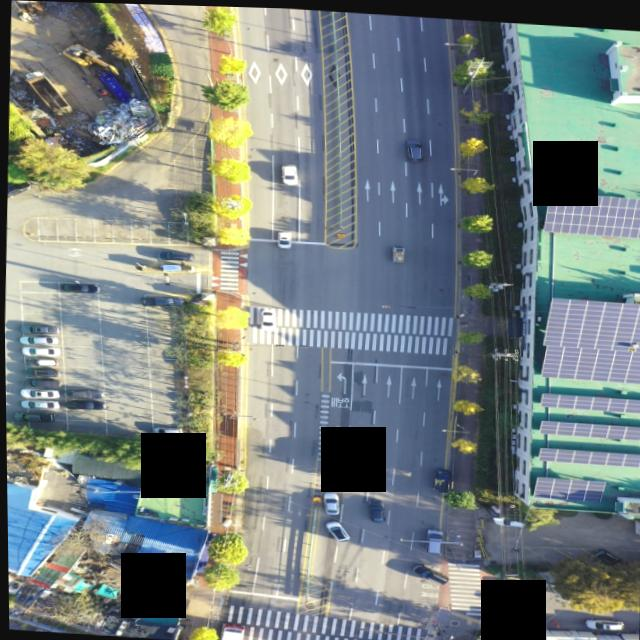car: (409, 561, 445, 582), (320, 518, 347, 540), (421, 525, 441, 552), (18, 397, 60, 409), (366, 494, 385, 520), (141, 293, 181, 305), (153, 247, 193, 259), (497, 609, 536, 621), (63, 387, 102, 398), (58, 281, 96, 292), (582, 615, 620, 626), (66, 399, 104, 410), (492, 591, 524, 604), (320, 488, 337, 512), (256, 305, 273, 329), (23, 366, 57, 378), (403, 137, 421, 159), (279, 160, 297, 182), (592, 546, 620, 560), (19, 324, 58, 334), (20, 387, 56, 397), (24, 345, 60, 355), (17, 411, 52, 421), (20, 334, 55, 344), (22, 377, 57, 387), (26, 355, 56, 366), (499, 578, 528, 588), (489, 513, 521, 522), (276, 228, 291, 244), (154, 425, 181, 433)
large_bus: (214, 621, 242, 640)
medium_truck: (18, 68, 73, 115)
small_truck: (327, 438, 350, 467), (431, 464, 451, 489), (389, 243, 403, 261)
